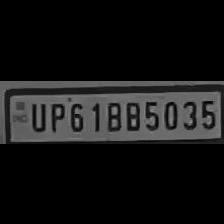0: (160, 96, 180, 130)
1: (86, 98, 104, 132)
3: (180, 96, 198, 130)
5: (142, 96, 160, 130), (198, 95, 216, 129)
6: (66, 98, 86, 132)
B: (102, 97, 122, 131), (122, 97, 142, 131)
P: (47, 98, 65, 132)
U: (26, 98, 48, 132)
